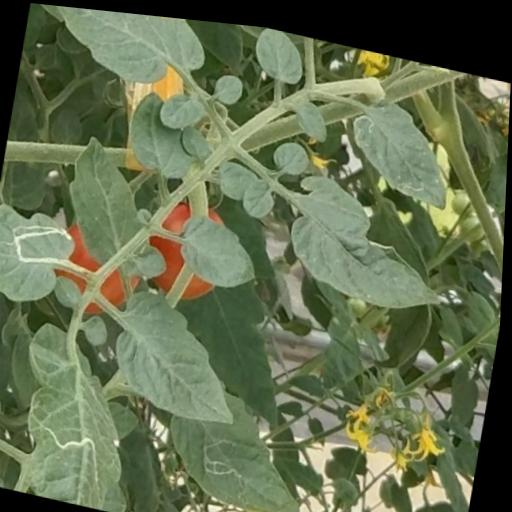Healthy: (281, 163, 460, 314), (107, 280, 255, 425), (34, 3, 209, 93), (61, 127, 158, 267), (173, 201, 265, 288), (122, 81, 202, 177), (249, 20, 307, 79)
Leaf_Miner: (161, 375, 323, 512), (19, 352, 142, 511), (339, 83, 464, 202), (0, 197, 82, 310)
